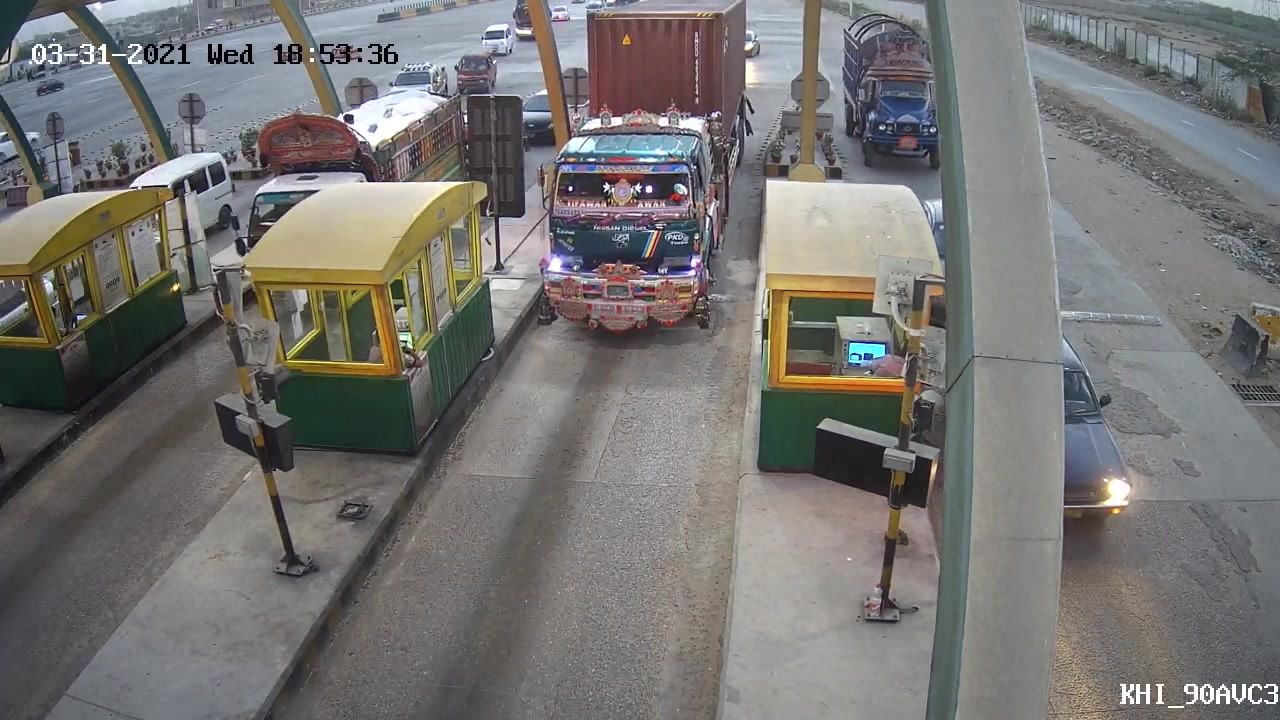F6: (534, 1, 759, 328)
